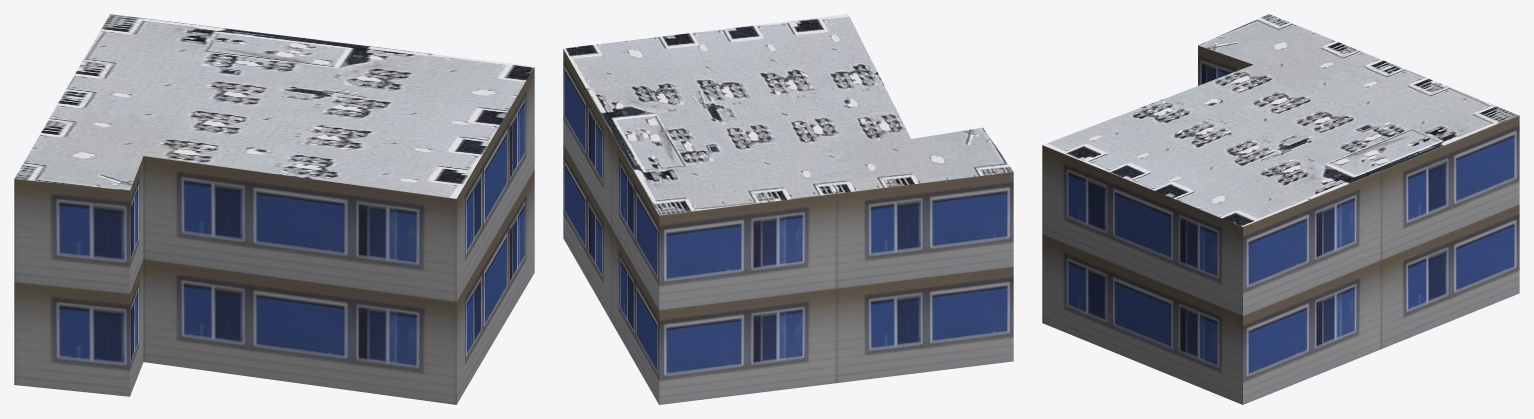
File: ResTex__66.fbx
3 views of the same model, side by side, from view 1: azimuth 30°, elevation 25°; view 2: azimuth 150°, elevation 25°; view 3: azimuth 270°, elevation 25° (orthographic). The views are drawn at different scales.
Visible parts, largest first — view 1: CityEngineMaterial_23_m, CityEngineMaterial_4_m; view 2: CityEngineMaterial_23_m, CityEngineMaterial_4_m; view 3: CityEngineMaterial_23_m, CityEngineMaterial_4_m.
Boxes of the visible parts, bbox=[...] form: CityEngineMaterial_23_m: bbox=[14, 67, 534, 404]; CityEngineMaterial_4_m: bbox=[14, 14, 534, 198]; CityEngineMaterial_23_m: bbox=[563, 49, 1013, 404]; CityEngineMaterial_4_m: bbox=[563, 14, 1013, 215]; CityEngineMaterial_23_m: bbox=[1042, 45, 1519, 404]; CityEngineMaterial_4_m: bbox=[1043, 14, 1518, 226].
Size of the model in its own units: 15.4 by 6 by 14.57.
2 materials, 2 textured.
